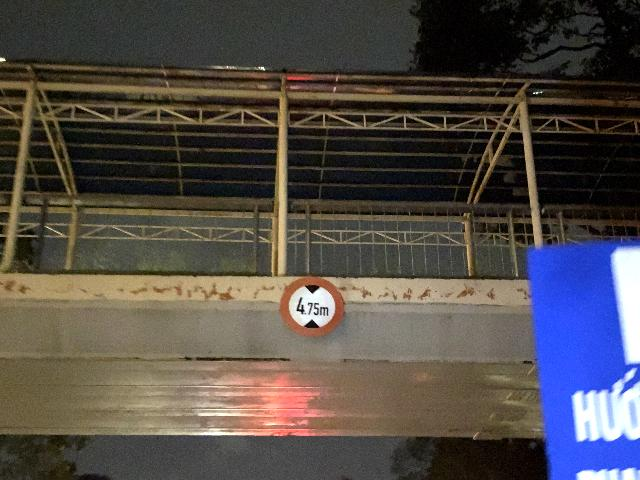han-che-chieu-cao: (280, 276, 345, 337)
